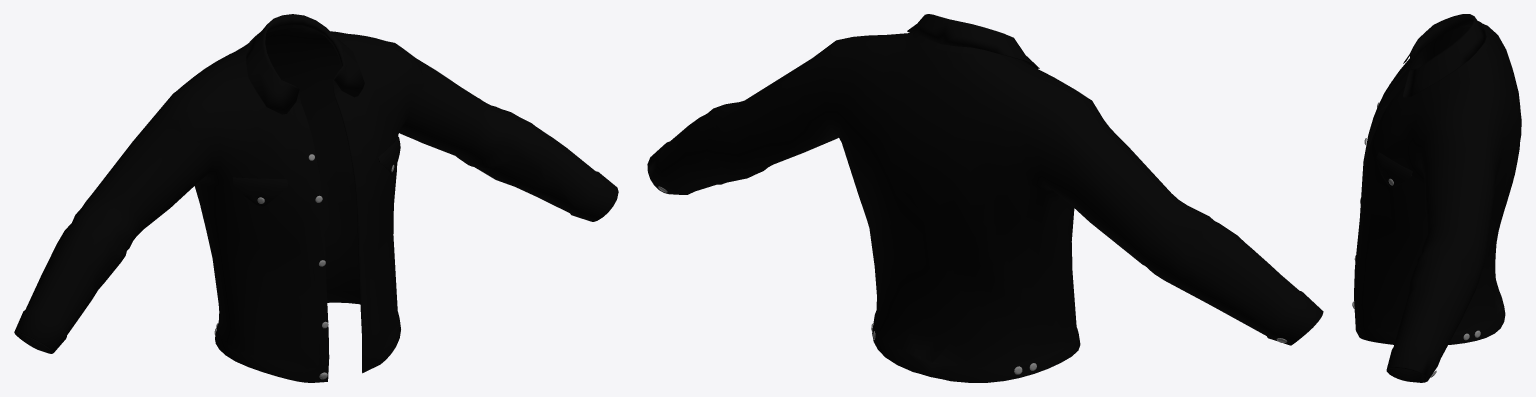
3 views of the same model, side by side, from view 1: azimuth 30°, elevation 25°; view 2: azimuth 150°, elevation 25°; view 3: azimuth 270°, elevation 25° (orthographic). The views are drawn at different scales.
Visible parts, largest first — view 1: Jacket1:Jacket_low, Jacket1:Jacket_Pockets_low; view 2: Jacket1:Jacket_low; view 3: Jacket1:Jacket_low, Jacket1:Jacket_Pockets_low, Jacket1:Jacket_Buttons_low.
Boxes of the visible parts, box(x1,y1,x2,y2) form: Jacket1:Jacket_low: box(14, 14, 618, 382); Jacket1:Jacket_Pockets_low: box(232, 137, 400, 206); Jacket1:Jacket_low: box(647, 14, 1323, 382); Jacket1:Jacket_low: box(1354, 14, 1521, 382); Jacket1:Jacket_Pockets_low: box(1376, 105, 1412, 187); Jacket1:Jacket_Buttons_low: box(1352, 102, 1480, 377).
Size of the model in its own units: 5.55 by 2.81 by 1.43.
1 material, 1 textured.
